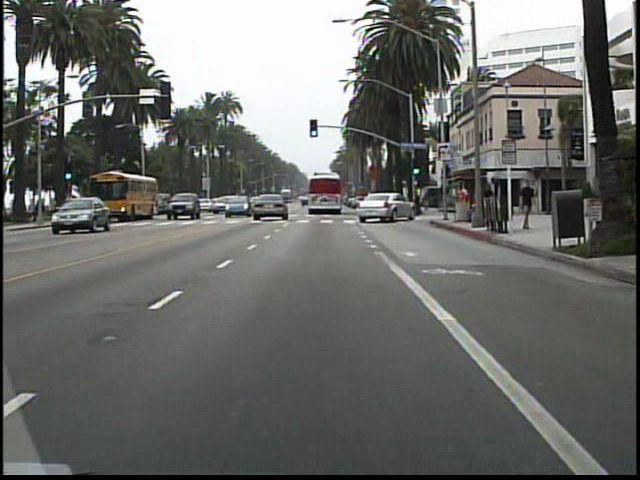person: (515, 176, 537, 234), (481, 180, 498, 225), (453, 180, 470, 222)
